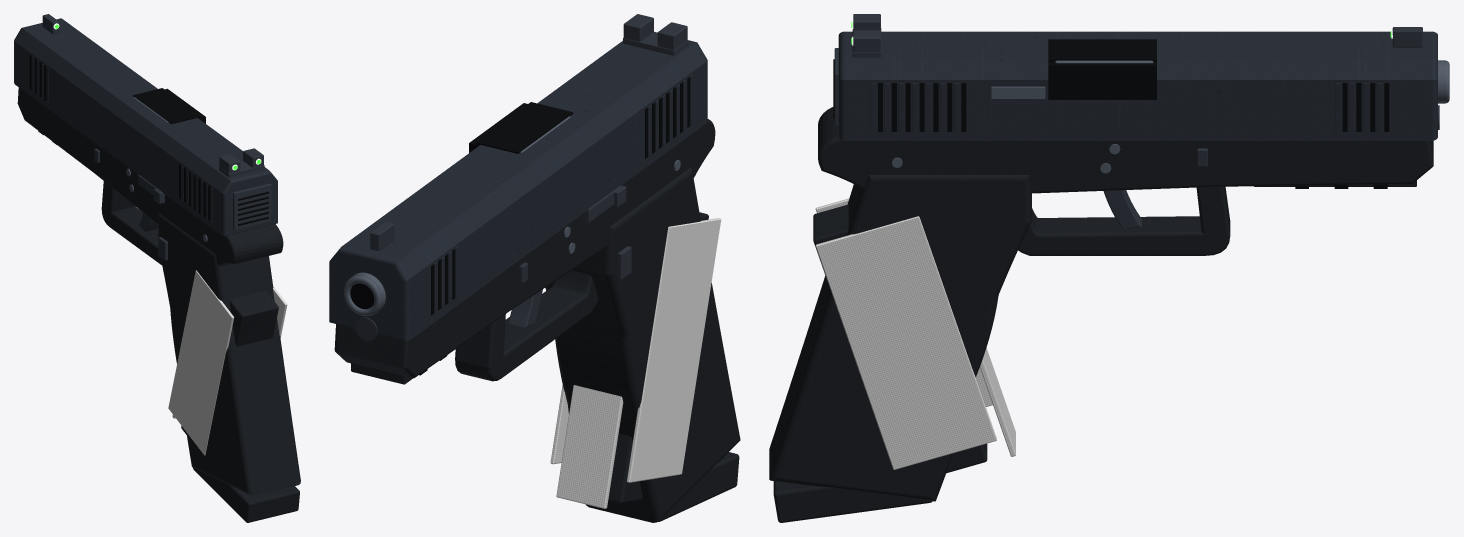
File: pistol.glb
3 views of the same model, side by side, from view 1: azimuth 30°, elevation 25°; view 2: azimuth 150°, elevation 25°; view 3: azimuth 270°, elevation 25° (orthographic). The views are drawn at different scales.
Visible parts, largest first — view 1: pistol_frame_polymer, pistol_slide_body, pistol_frame_stipple, pistol_mag_body, pistol_slide_recess, pistol_slide_hardware, pistol_frame_hardware; view 2: pistol_frame_polymer, pistol_slide_body, pistol_frame_stipple, pistol_slide_recess, pistol_mag_body, pistol_slide_hardware, pistol_frame_hardware, pistol_barrel_steel, pistol_trigger_shoe, pistol_barrel_bore; view 3: pistol_frame_polymer, pistol_slide_body, pistol_frame_stipple, pistol_slide_recess, pistol_mag_body, pistol_slide_hardware, pistol_trigger_shoe, pistol_barrel_steel, pistol_slide_extractor.
Part boxes in pixels (x1,y1,x2,y2): pistol_frame_polymer: (17,87,300,495); pistol_slide_body: (14,18,277,236); pistol_frame_stipple: (168,270,287,455); pistol_mag_body: (181,291,299,522); pistol_slide_recess: (29,55,268,225); pistol_slide_hardware: (42,14,271,230); pistol_frame_hardware: (94,148,167,260); pistol_frame_polymer: (334,119,740,522); pistol_slide_body: (329,40,707,341); pistol_frame_stipple: (550,218,721,508); pistol_slide_recess: (431,77,690,315); pistol_mag_body: (608,212,739,521); pistol_slide_hardware: (370,14,688,250); pistol_frame_hardware: (519,185,631,283); pistol_barrel_steel: (344,116,570,316); pistol_trigger_shoe: (508,289,542,327); pistol_barrel_bore: (350,283,374,309); pistol_frame_polymer: (769,107,1433,501); pistol_slide_body: (838,31,1437,140); pistol_frame_stipple: (815,198,1015,469); pistol_slide_recess: (833,39,1389,131); pistol_mag_body: (773,204,987,522); pistol_slide_hardware: (834,14,1422,126); pistol_trigger_shoe: (1103,190,1141,228); pistol_barrel_steel: (1055,60,1449,103); pistol_slide_extractor: (991,86,1045,99).
Size of the model in its own units: 0.0321 by 0.1754 by 0.2252.
Materials: 8 (3 with a texture image).
